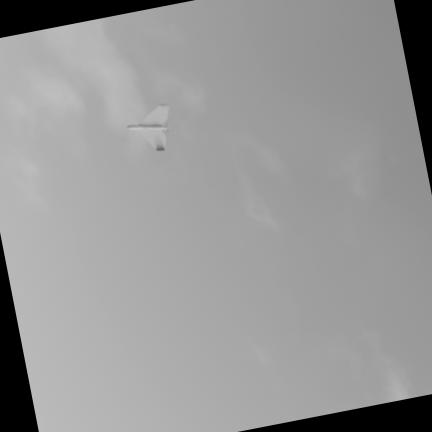Shahed: (125, 103, 169, 152)
